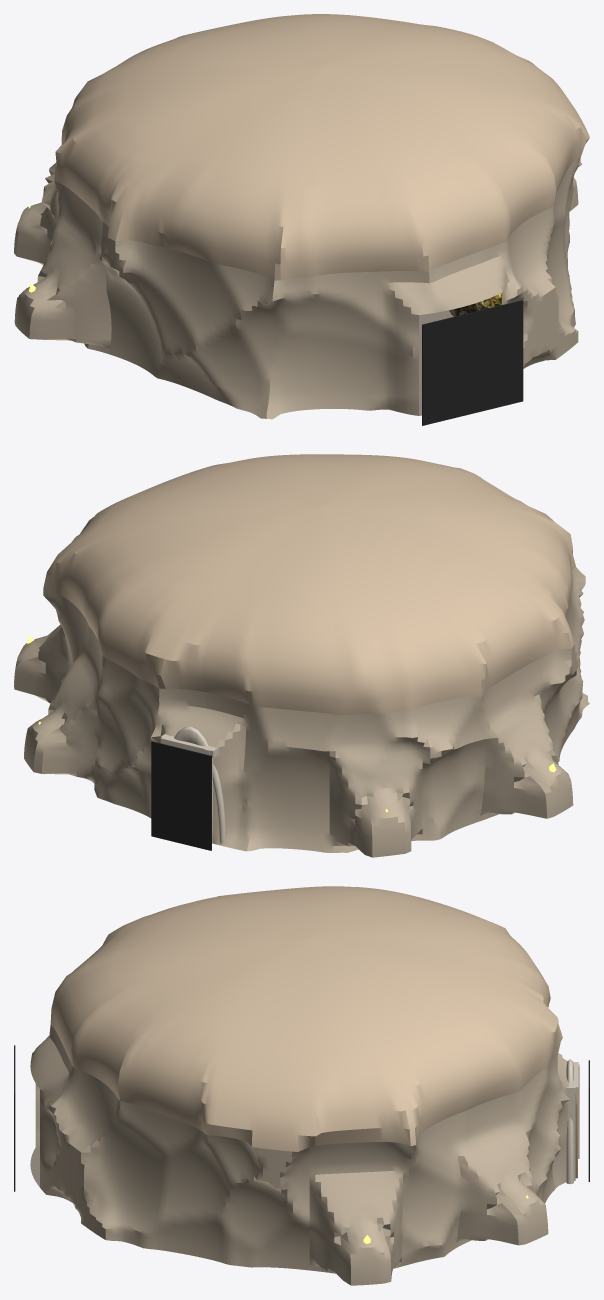
Rendered from room.glb.
The picture shows the model from 3 angles, top to bottom: view 1: azimuth 30°, elevation 25°; view 2: azimuth 150°, elevation 25°; view 3: azimuth 270°, elevation 25°; orthographic projection. The views are drawn at different scales.
Visible parts, largest first — view 1: dome, walls_front, walls_back, entrance.beyond, floor; view 2: dome, walls_back, door.beyond, walls_front, door.arch; view 3: dome, walls_front, walls_back, door.arch.
Boxes of the visible parts, <box> form: dome: <box>54,14,589,280</box>; walls_front: <box>99,156,581,419</box>; walls_back: <box>14,163,578,353</box>; entrance.beyond: <box>422,300,523,425</box>; floor: <box>419,310,453,415</box>; dome: <box>43,454,575,715</box>; walls_back: <box>14,590,573,857</box>; door.beyond: <box>151,741,211,850</box>; walls_front: <box>540,567,589,761</box>; door.arch: <box>174,726,226,844</box>; dome: <box>50,886,562,1151</box>; walls_front: <box>30,1025,309,1270</box>; walls_back: <box>309,1053,569,1285</box>; door.arch: <box>566,1059,573,1184</box>.
Bounding box in the file's own units: 23.26 × 9.52 × 21.65.
17 materials, 8 textured.
